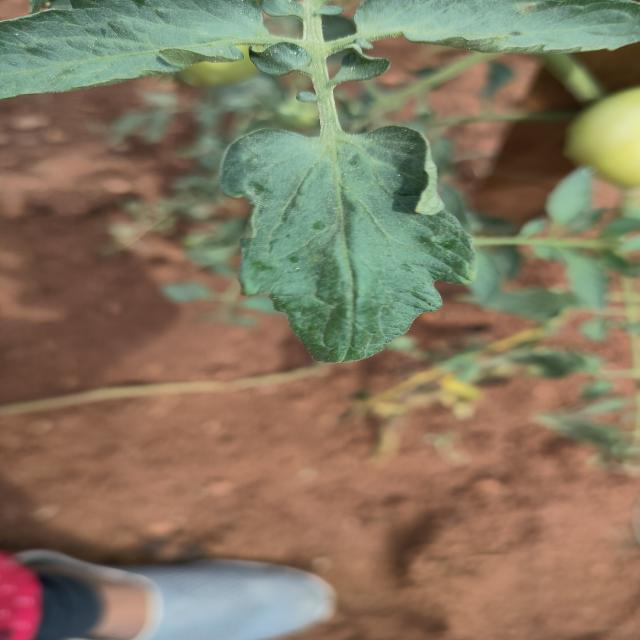tomato_healthy: (221, 124, 468, 366), (3, 14, 298, 98)
